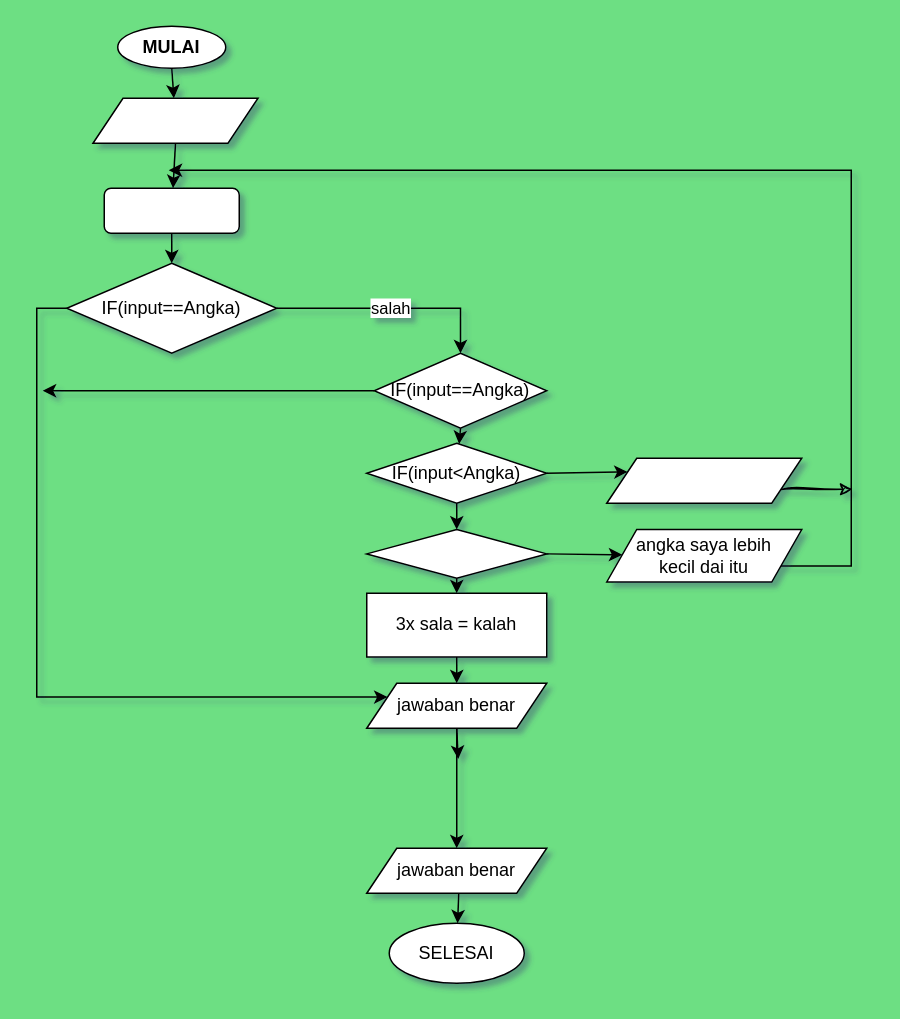
Some shapes in this 900 by 1019 pixel diagram are drawn without their labels. The shapes that lost their labels are listed below. From the top down, each one's box as (x1, y1, x2, y2) in pixels, then its label:
(92, 97, 258, 143): INPUT ANGKA
(103, 187, 239, 233): TEBAK 1 -100
(605, 457, 802, 503): angka saya lebih besar dai itu
(365, 528, 547, 578): IF(input>Angka)
